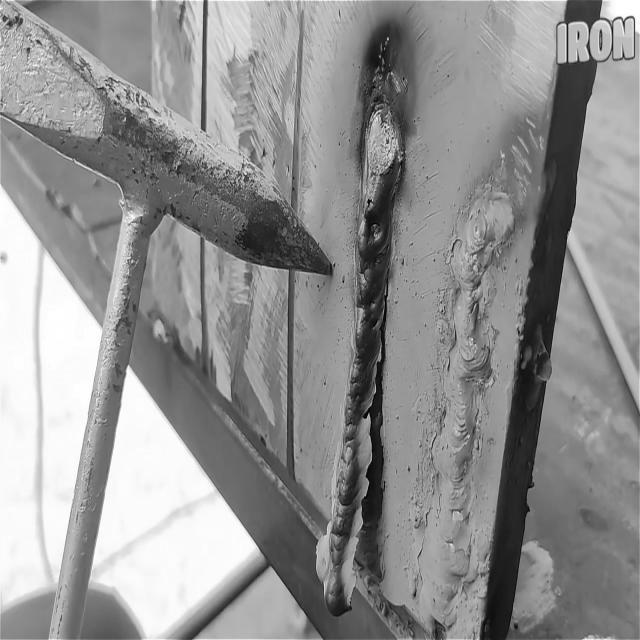Bad Weld: (314, 34, 408, 618), (422, 182, 512, 622)
Defect: (350, 263, 384, 601)
